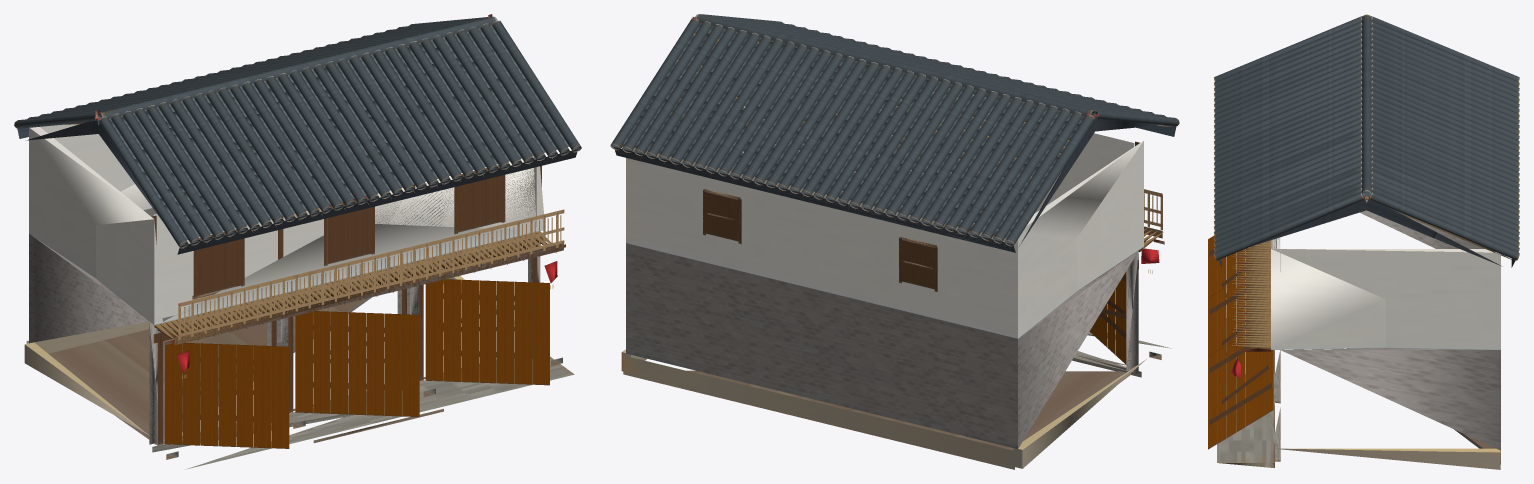
The model's file is lib_lib_house_a2_open.lod.glb.
The picture shows the model from 3 angles, left to right: view 1: azimuth 30°, elevation 25°; view 2: azimuth 150°, elevation 25°; view 3: azimuth 270°, elevation 25°; orthographic projection. The views are drawn at different scales.
Visible parts, largest first — view 1: house_a2; view 2: house_a2; view 3: house_a2.
Part boxes in pixels (x1=…): house_a2: x1=14, y1=14, x2=581, y2=469; house_a2: x1=610, y1=14, x2=1179, y2=469; house_a2: x1=1208, y1=14, x2=1519, y2=469.
Bounding box in the file's own units: 11.12 × 8 × 8.14.
Materials: 8 (8 with a texture image).
